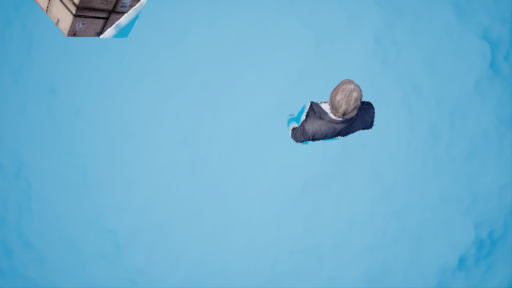person: (287, 78, 373, 149)
